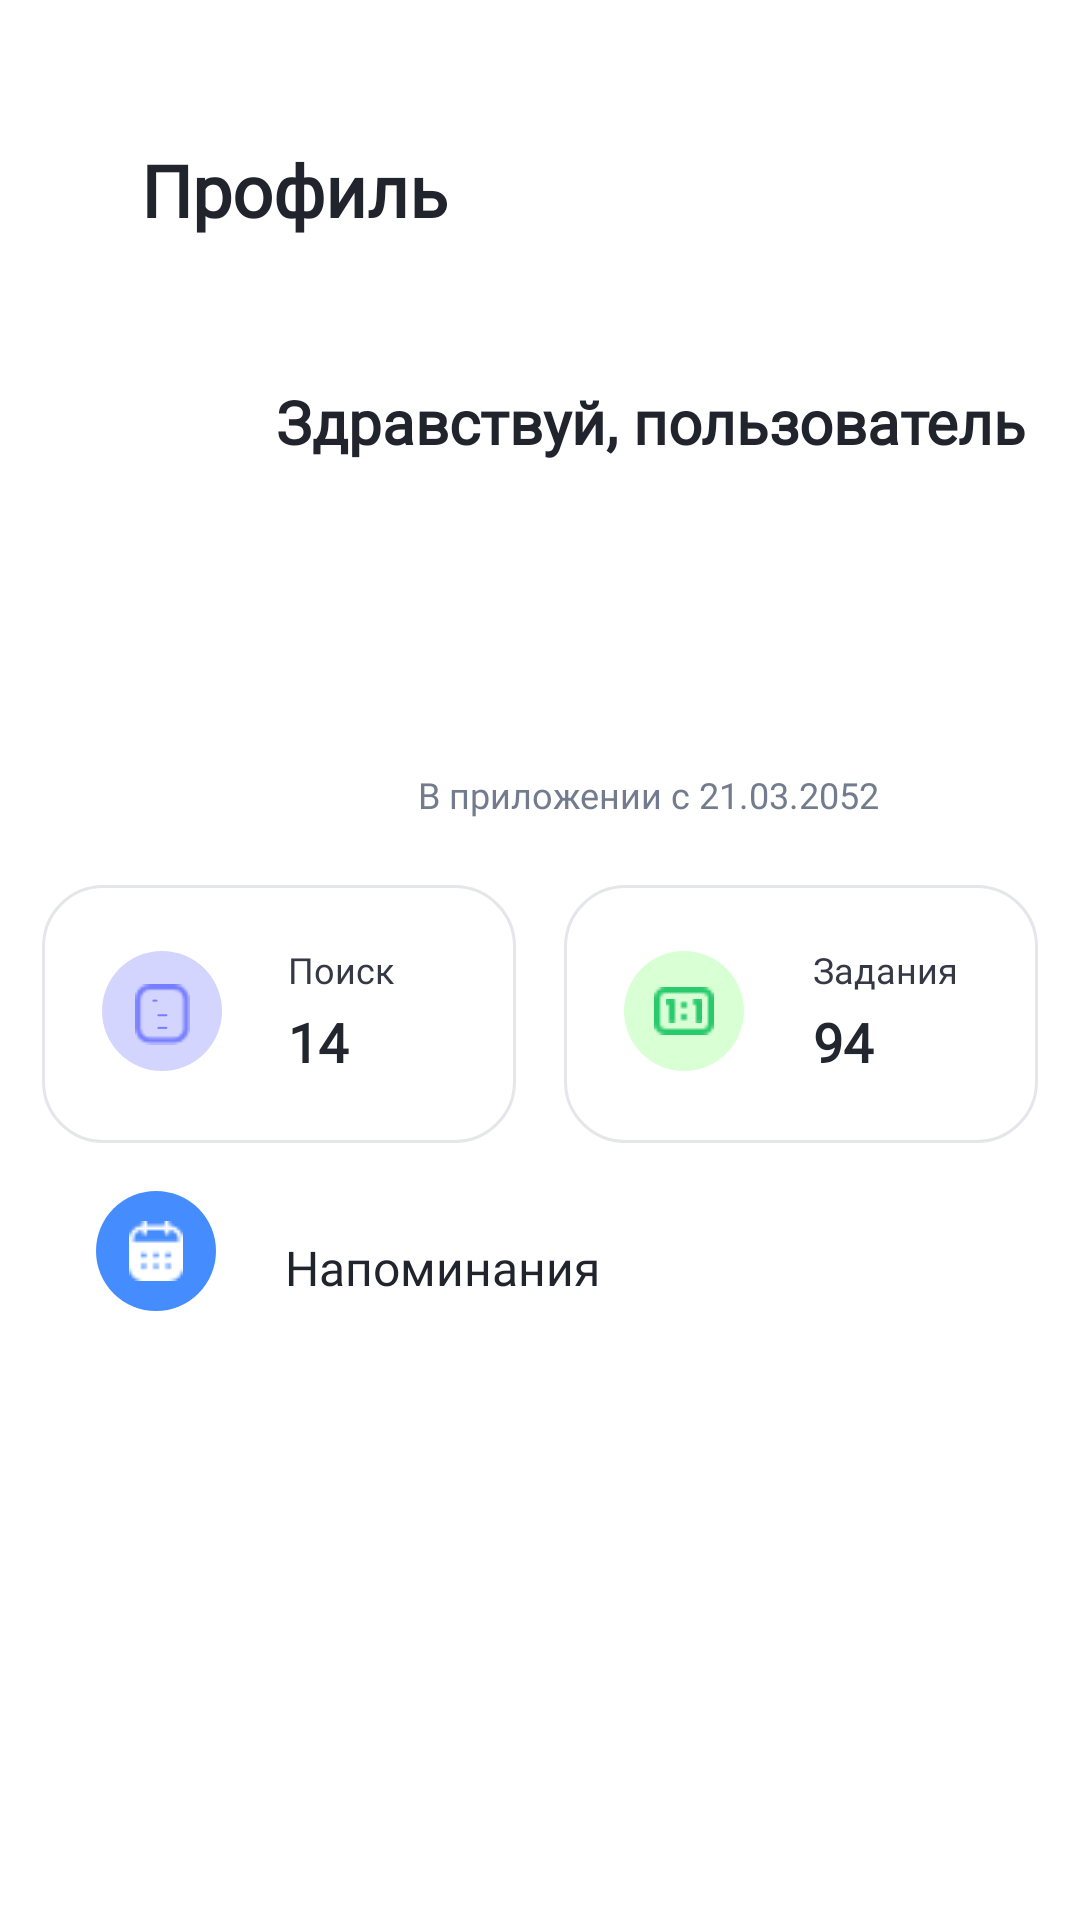

Point at icon controls on the screen. Image size 1080w x 1920h, points as (x=x, y=y).
calendar ek: (x=156, y=1251)
